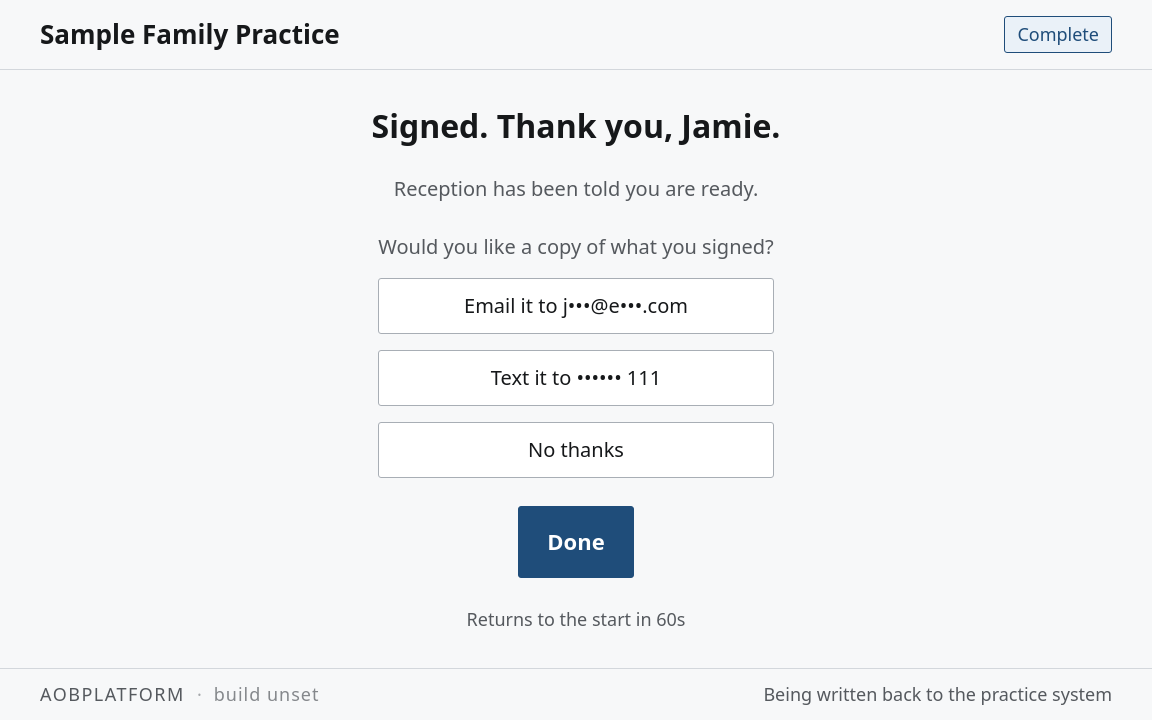
Test: the copy offer on K-6 › says where the copy went, in the channel the server confirmed
Expected: the element with test id "copy-offer" is shown, [378, 232, 774, 478]
Click the button with test id "copy-option-sms" at (576, 378), box [378, 350, 774, 406]
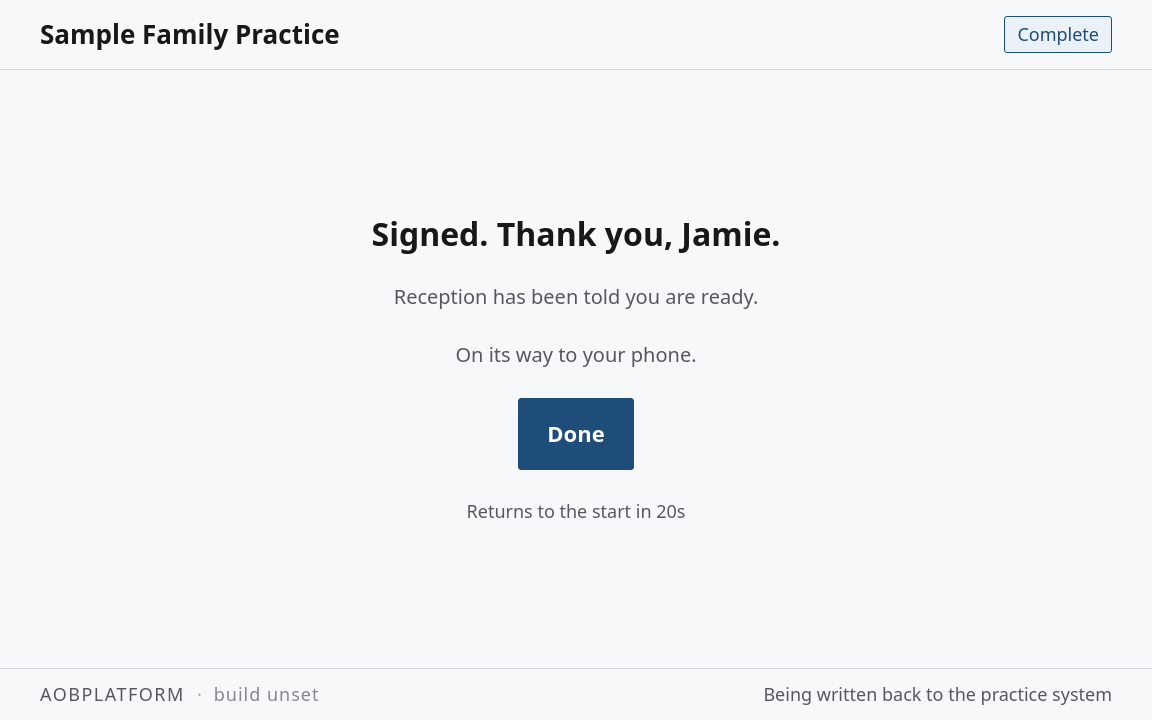
Expected: the text with test id "copy-sent" reads "On its way to your phone.", [456, 340, 697, 368]
